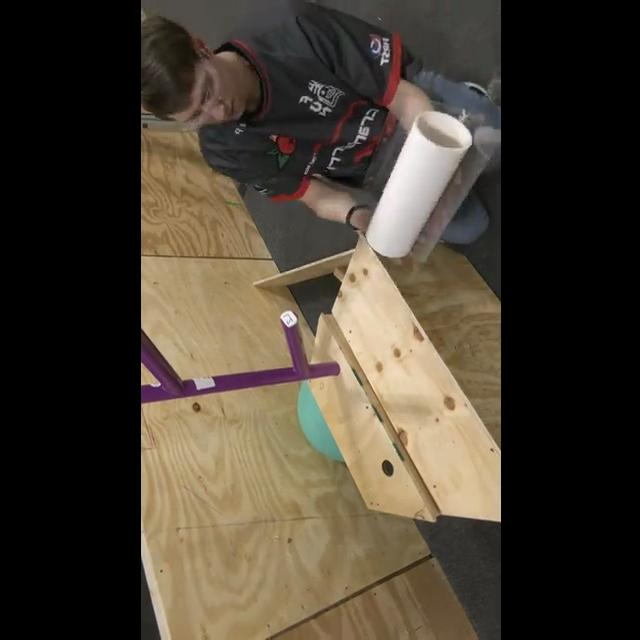CORAL: (362, 109, 472, 259)
